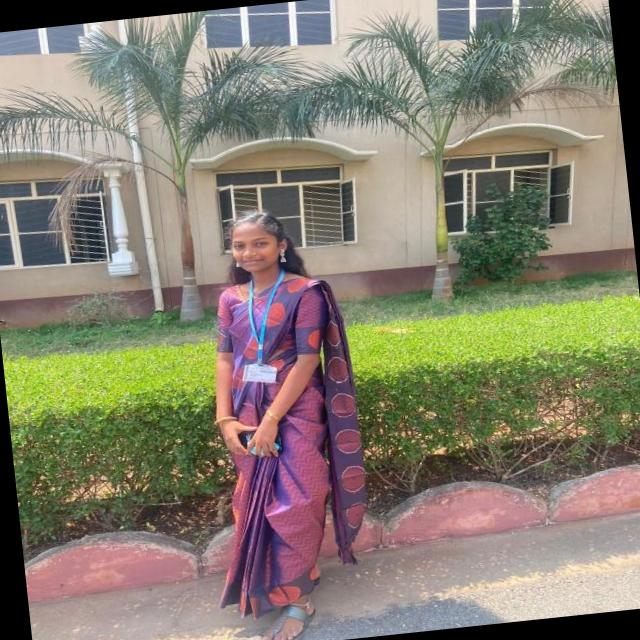id_card: (230, 264, 296, 388)
